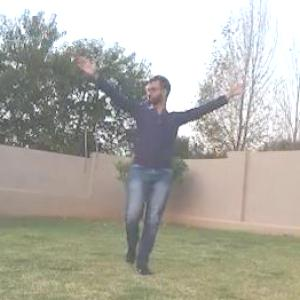takeoff: (74, 56, 243, 268)
